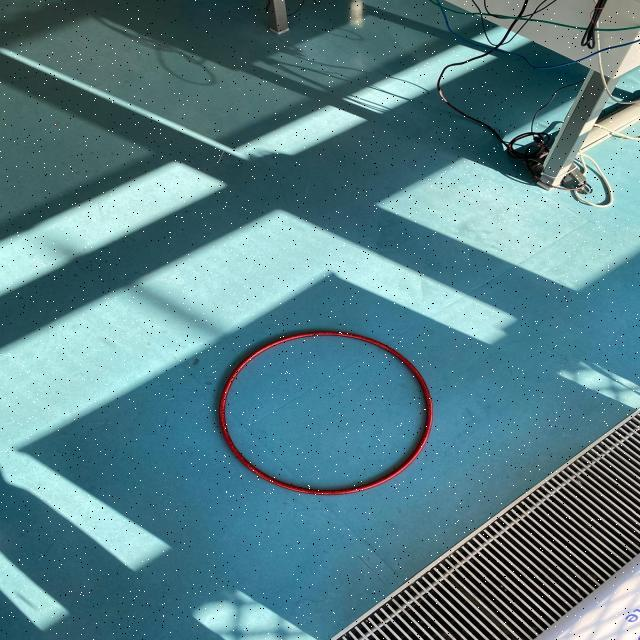Circle: (210, 326, 439, 498)
